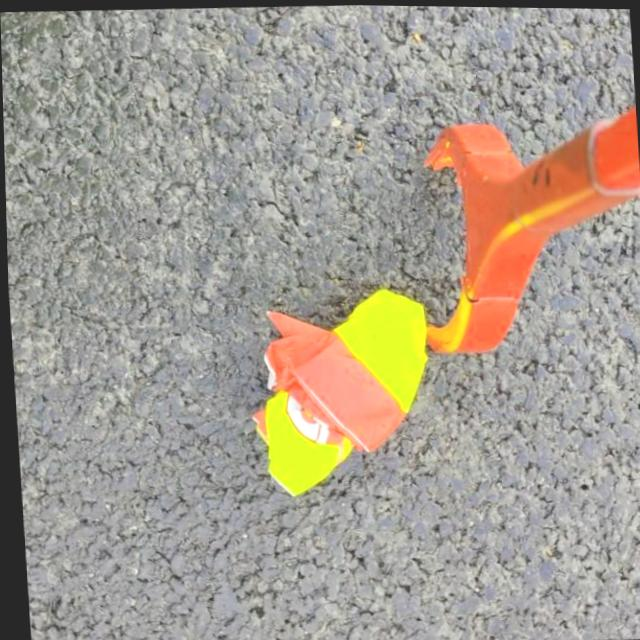Paper: (239, 279, 436, 501)
